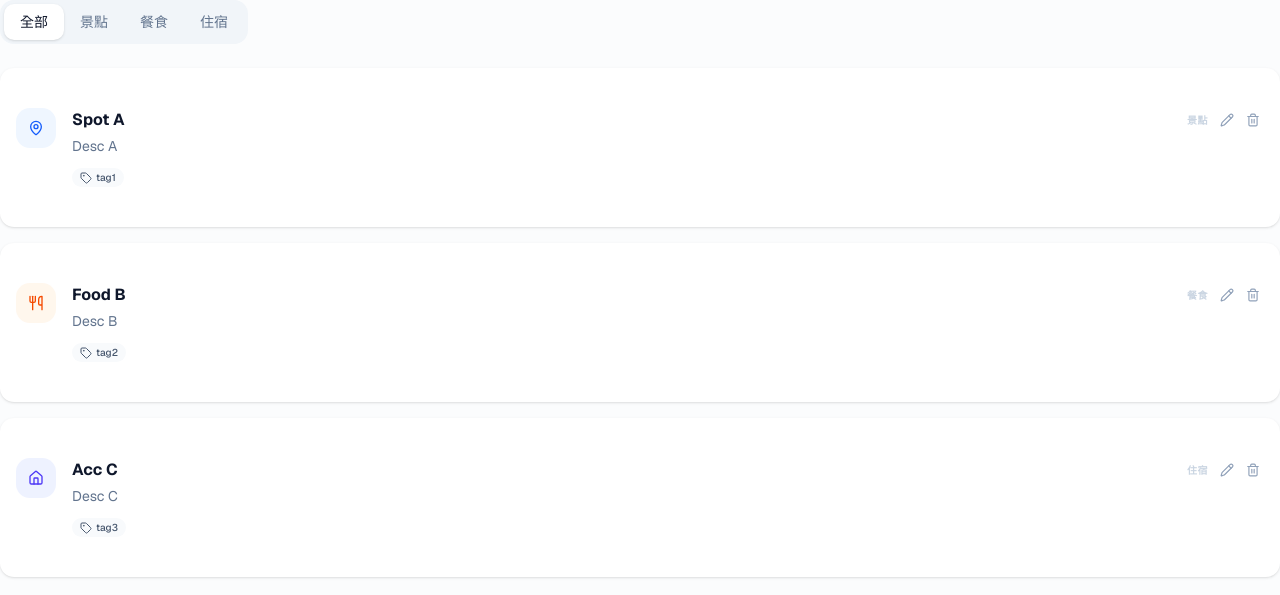
Test: FavoriteItemsList › filters by type when tabs are clicked
// Click Food tab
Click the tab "餐食" at (154, 22), box [124, 4, 184, 40]
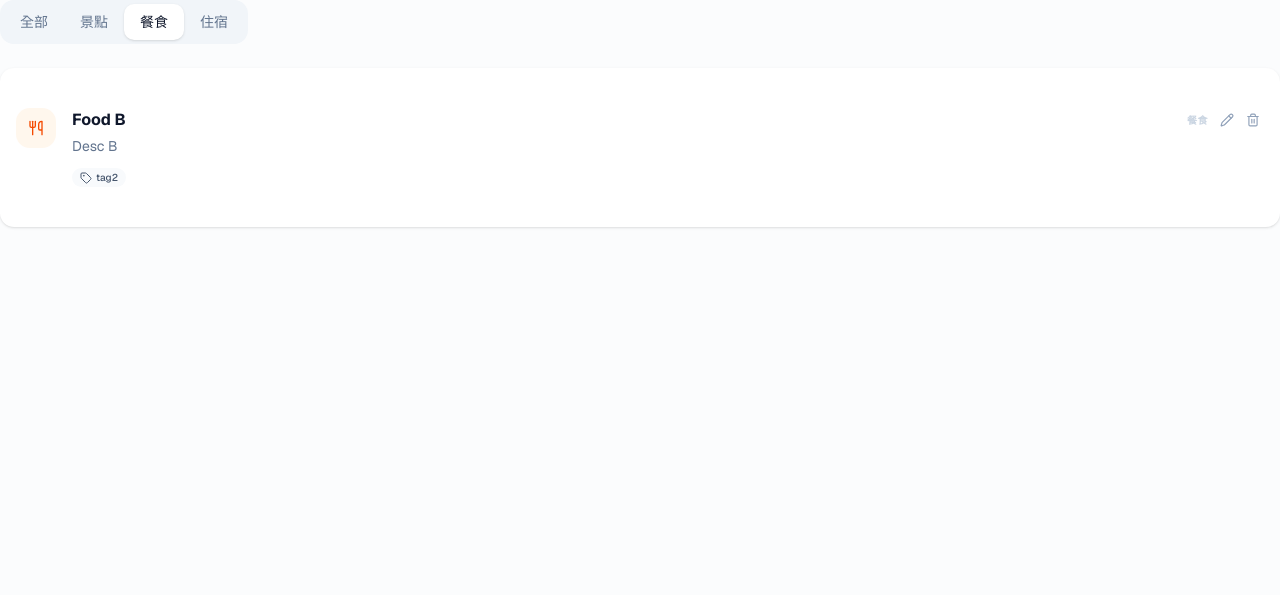
Expected: the heading "Food B" is shown, [72, 108, 126, 132]
Result: the heading "Spot A" is gone
Result: the heading "Acc C" is gone
